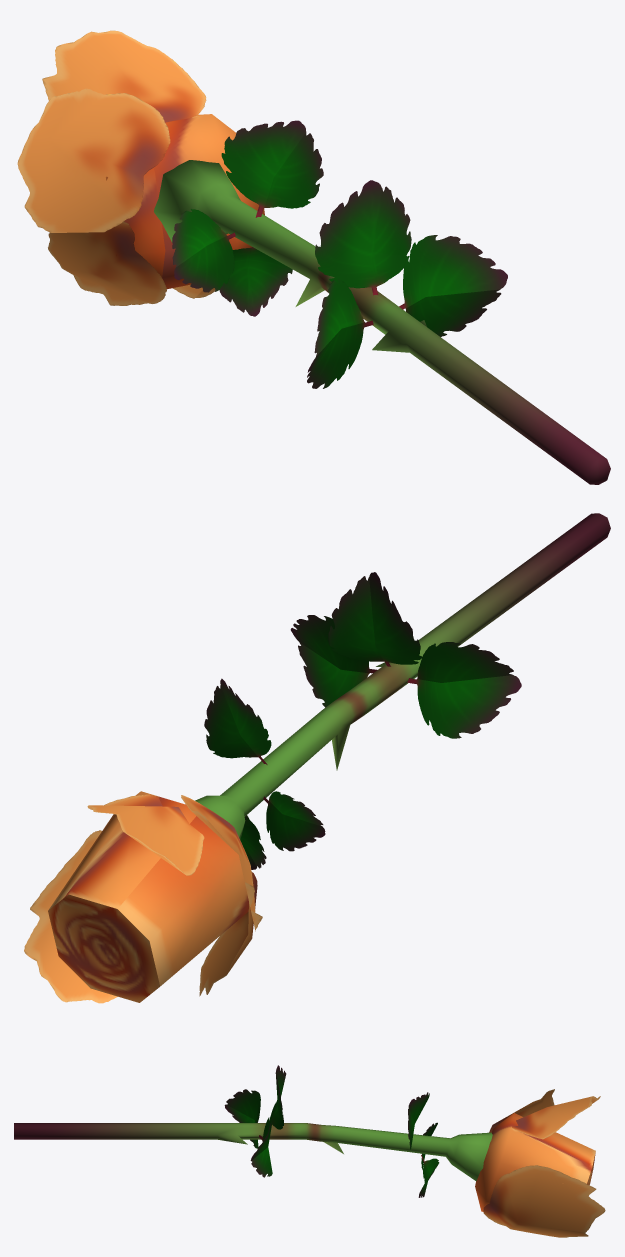
File: SM_Rose_Orange_Closed.fbx
3 renders of one model, top to bottom at view 1: azimuth 30°, elevation 25°; view 2: azimuth 150°, elevation 25°; view 3: azimuth 270°, elevation 25°, orthographic. The views are drawn at different scales.
Parts seen in each view (by area): view 1: Rose_Orange_Closed; view 2: Rose_Orange_Closed; view 3: Rose_Orange_Closed.
Part boxes in pixels (x1=…): Rose_Orange_Closed: x1=17, y1=30, x2=610, y2=484; Rose_Orange_Closed: x1=24, y1=513, x2=610, y2=1003; Rose_Orange_Closed: x1=14, y1=1065, x2=605, y2=1237.
Size of the model in its own units: 35.12 by 42.85 by 129.
